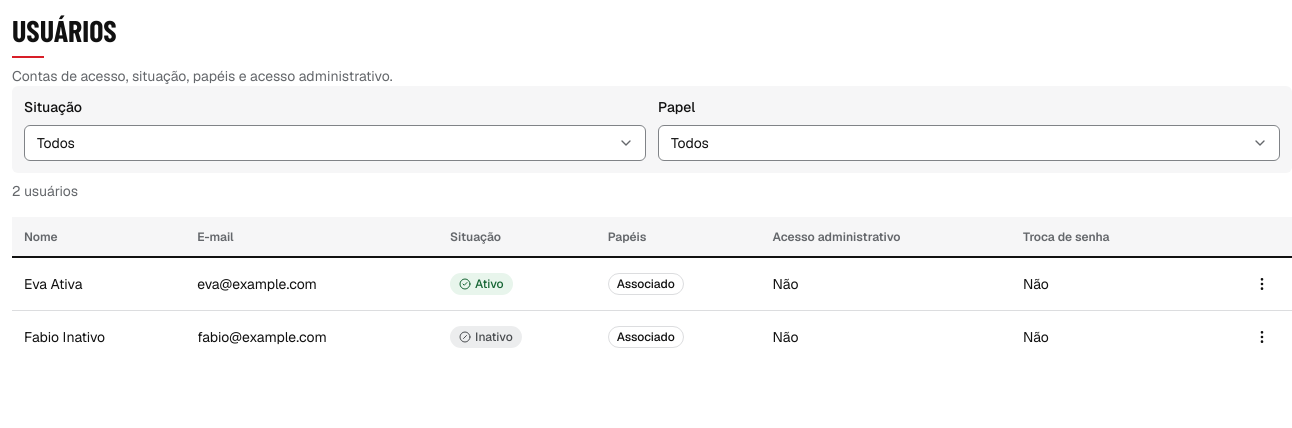
Test: menu de ações da linha › com identity:user:update: Desativar para ativo e Reativar para inativo
Expected: the text "eva@example.com" is shown, 185,257 -> 438,311
Click the button named "Ações de Eva Ativa": (1262, 284) 1244,266 -> 1280,302
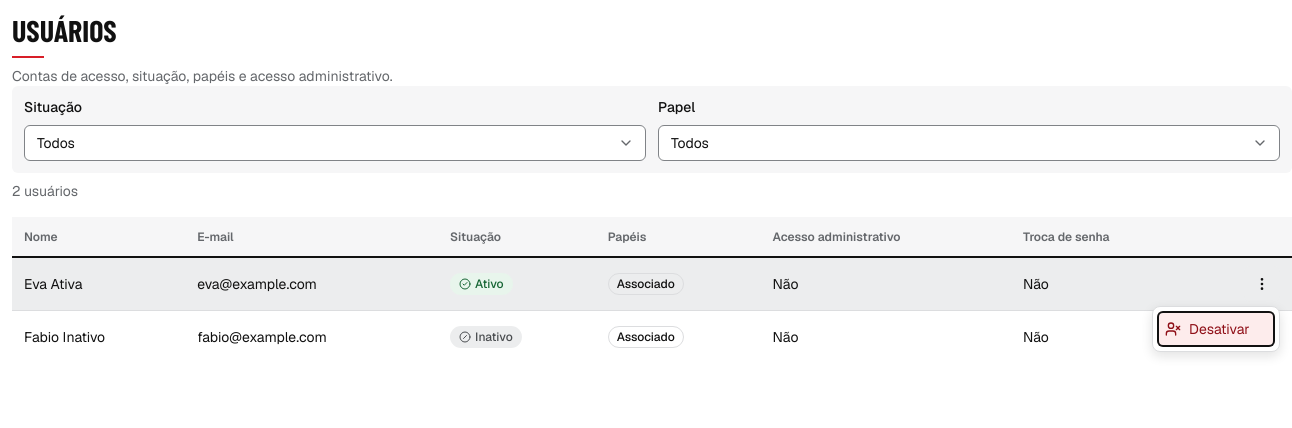
Result: the menu is shown
Press Escape in the menu, box 1152,306 -> 1280,352
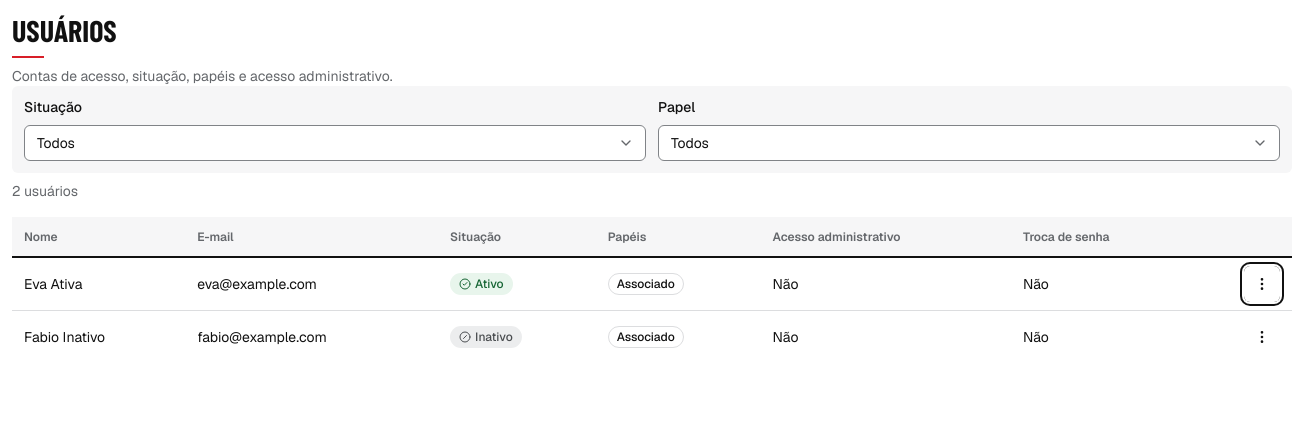
Result: the menu is gone
Click the button named "Ações de Fabio Inativo": (1262, 337) 1244,319 -> 1280,355
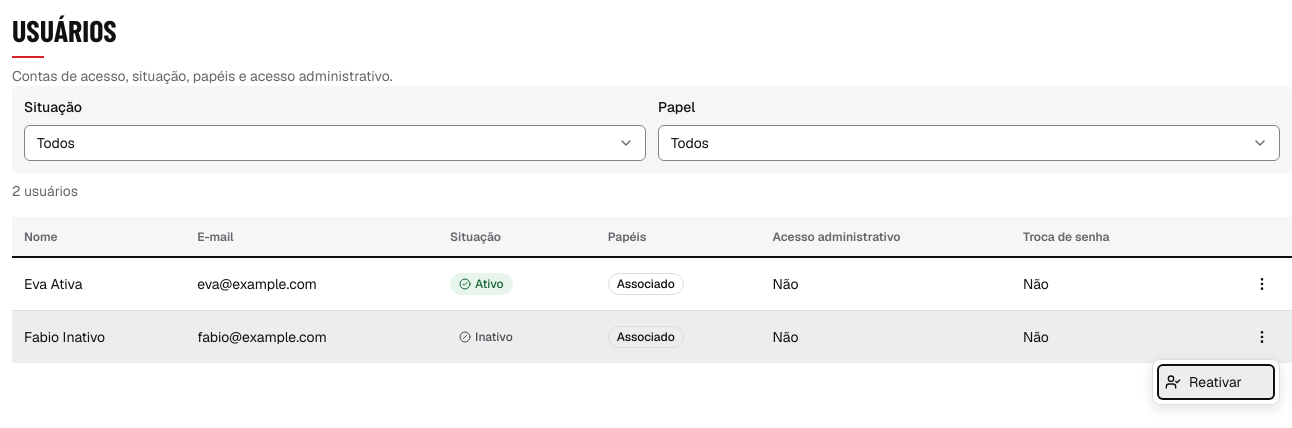
Result: the menu is shown at 1152,359 -> 1280,405
